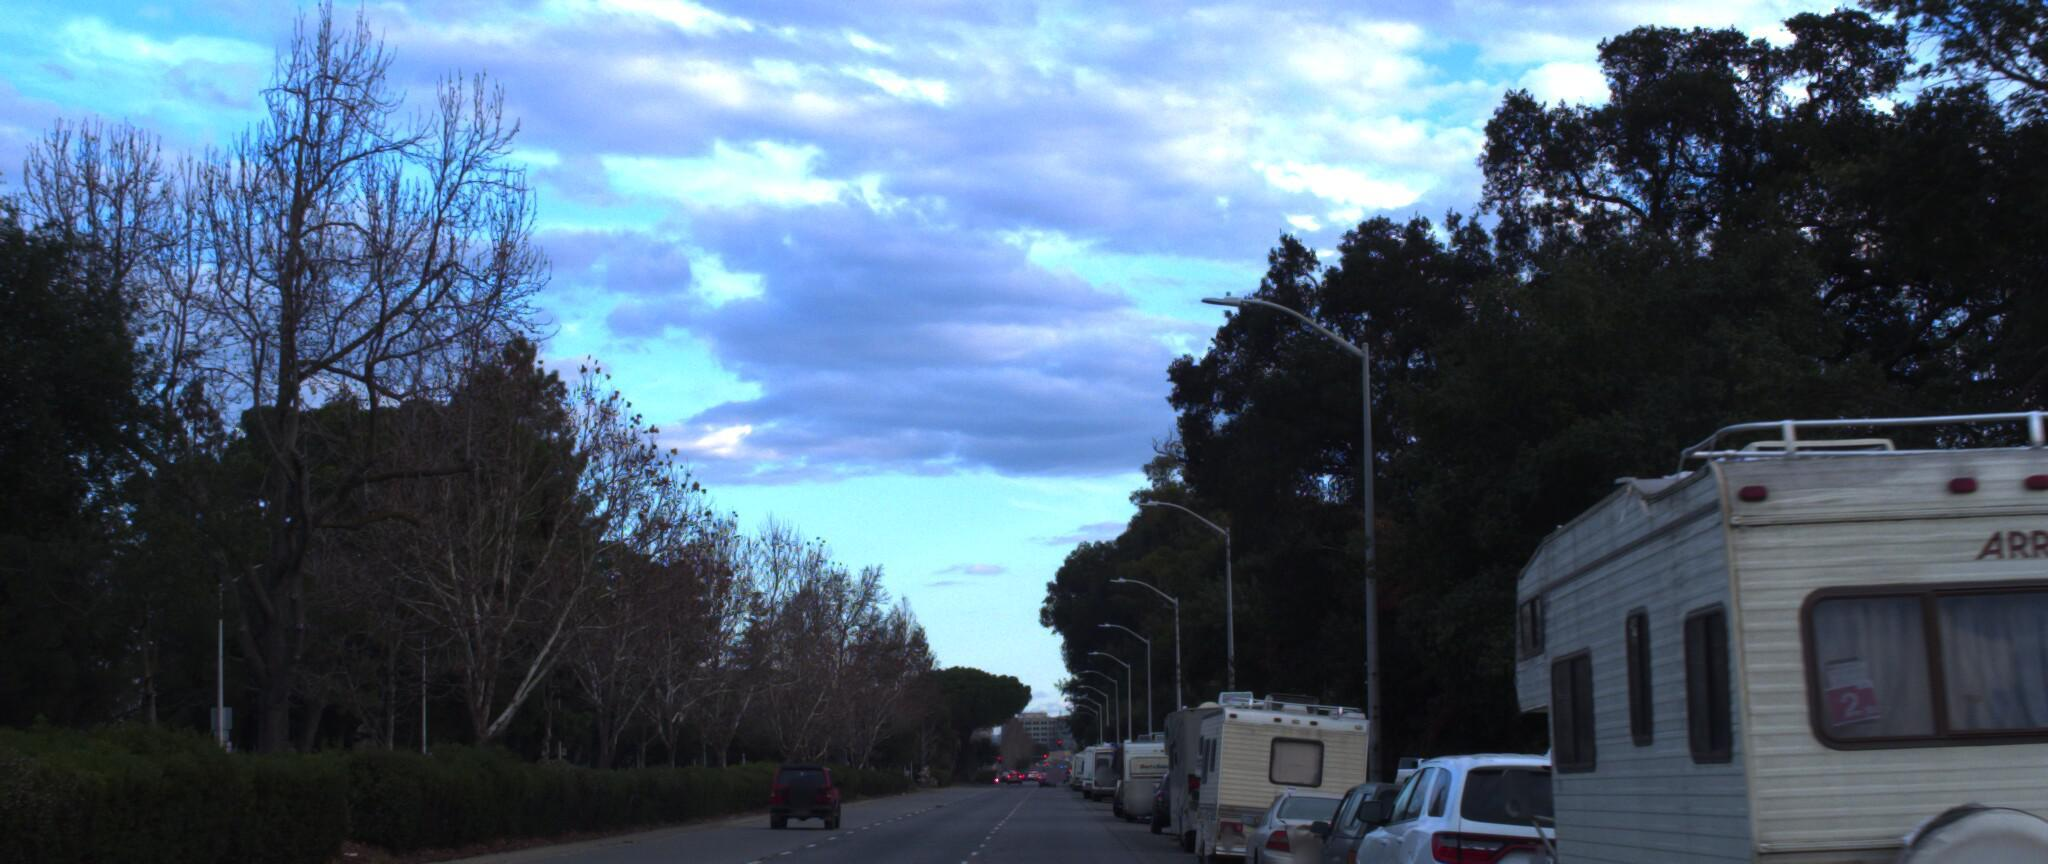car: (1315, 732, 1704, 864), (1273, 758, 1570, 864), (1814, 794, 2048, 864), (1213, 773, 1392, 864), (0, 692, 54, 864), (763, 747, 846, 818)
other_vehicle: (1481, 355, 2048, 864), (1166, 671, 1388, 864), (1145, 670, 1322, 844)
